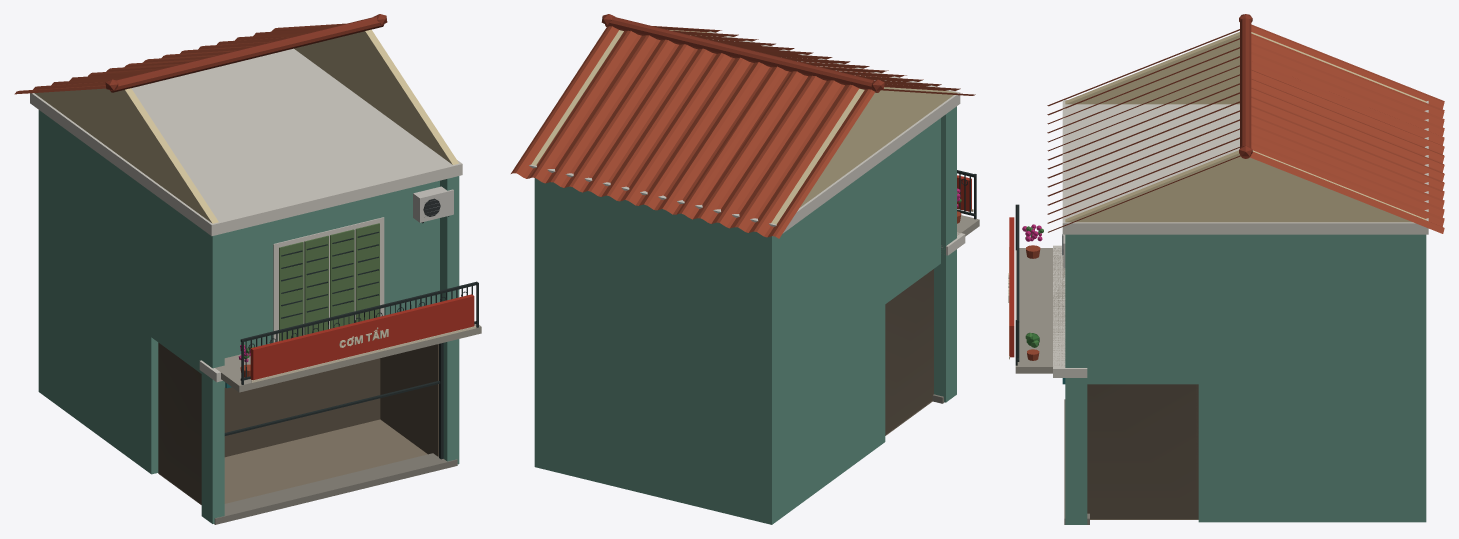
The model's file is nha_H.glb.
The picture shows the model from 3 angles, left to right: view 1: azimuth 30°, elevation 25°; view 2: azimuth 150°, elevation 25°; view 3: azimuth 270°, elevation 25°; orthographic projection.
Parts seen in each view (by area): view 1: nha_H; view 2: nha_H; view 3: nha_H.
Part boxes in pixels (x1,y1,x2,y2): nha_H: [14, 14, 481, 524]; nha_H: [511, 14, 979, 524]; nha_H: [1008, 14, 1444, 524].
Bounding box in the file's own units: 6.59 × 8.6 × 8.82.
